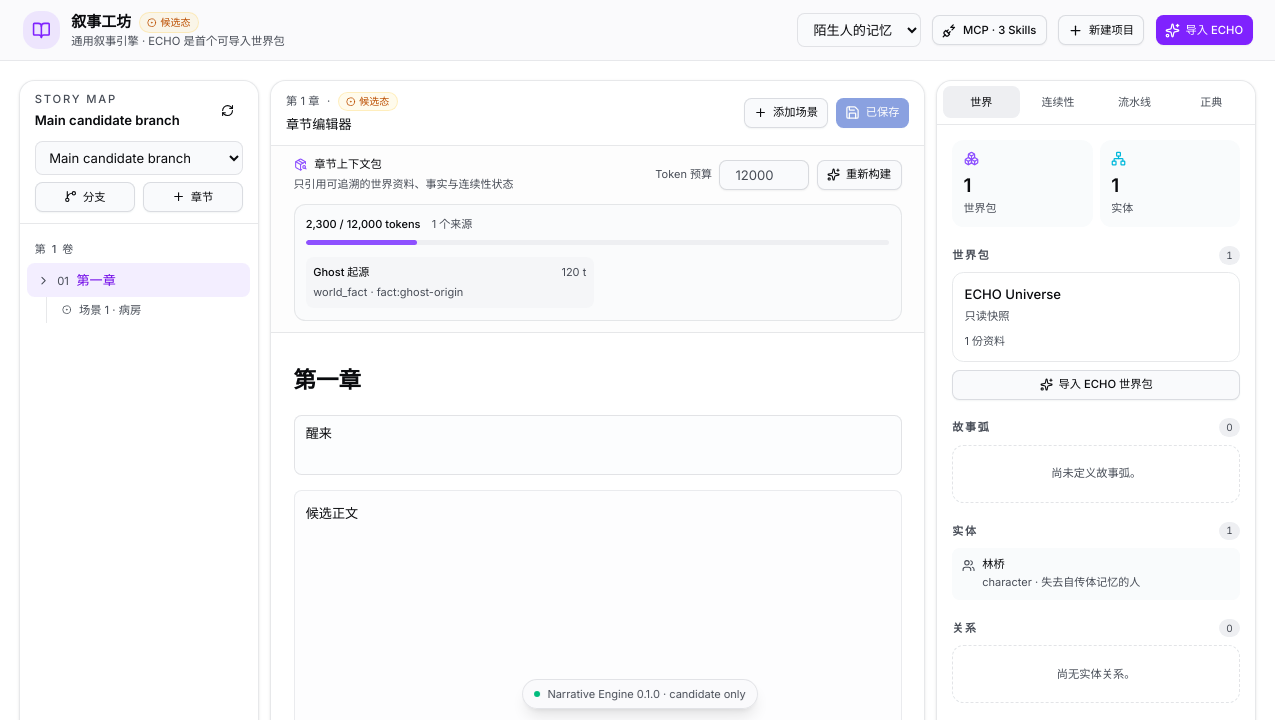
it: NarrativePage › cancels an in-flight AI stage without creating a candidate or submission
The image size is (1280, 720).
Expected: the field showing "第一章" is shown, [294,356,902,404]
What coordinates should you click on to do the following:
click the button "流水线"
I would click on:
 (1135, 102)
Its box is [1096,86,1173,118].
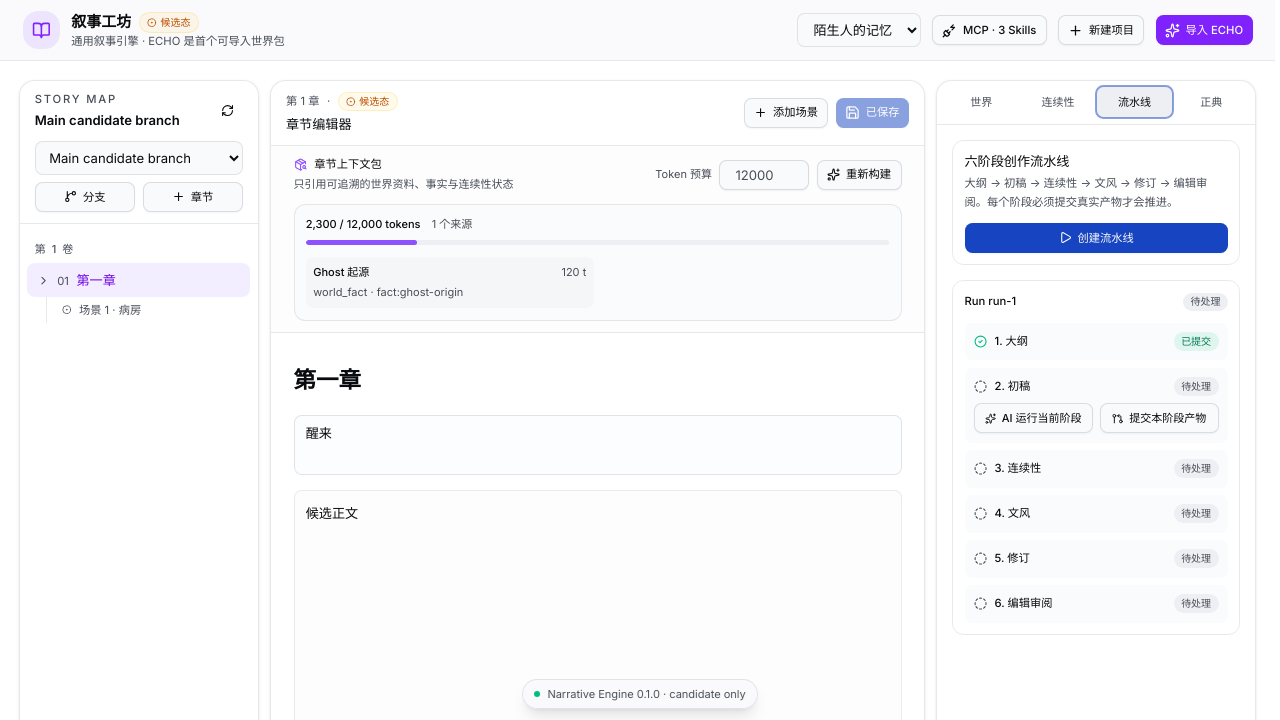
What coordinates should you click on to do the following:
click the button "AI 运行当前阶段"
I would click on:
 (1033, 418)
Its box is [974,403,1092,433].
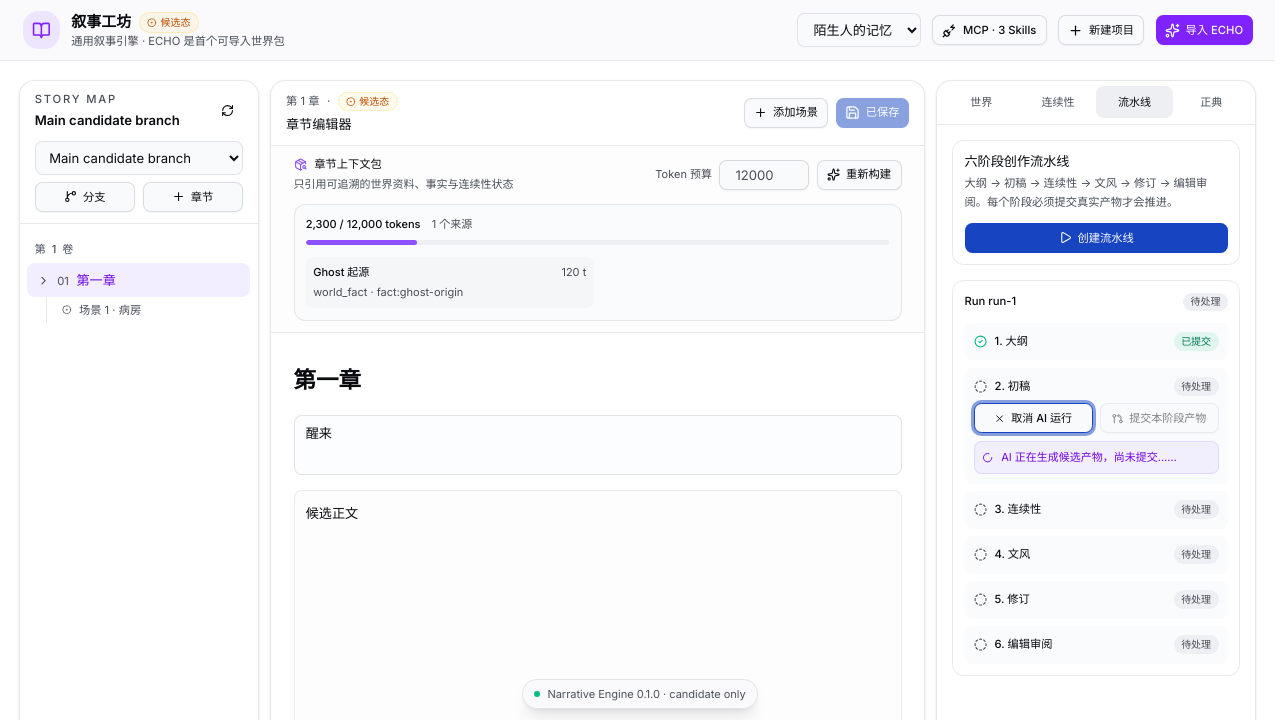
What coordinates should you click on to do the following:
click the button "取消 AI 运行"
I would click on:
 (1033, 418)
Its box is [974,403,1092,433].
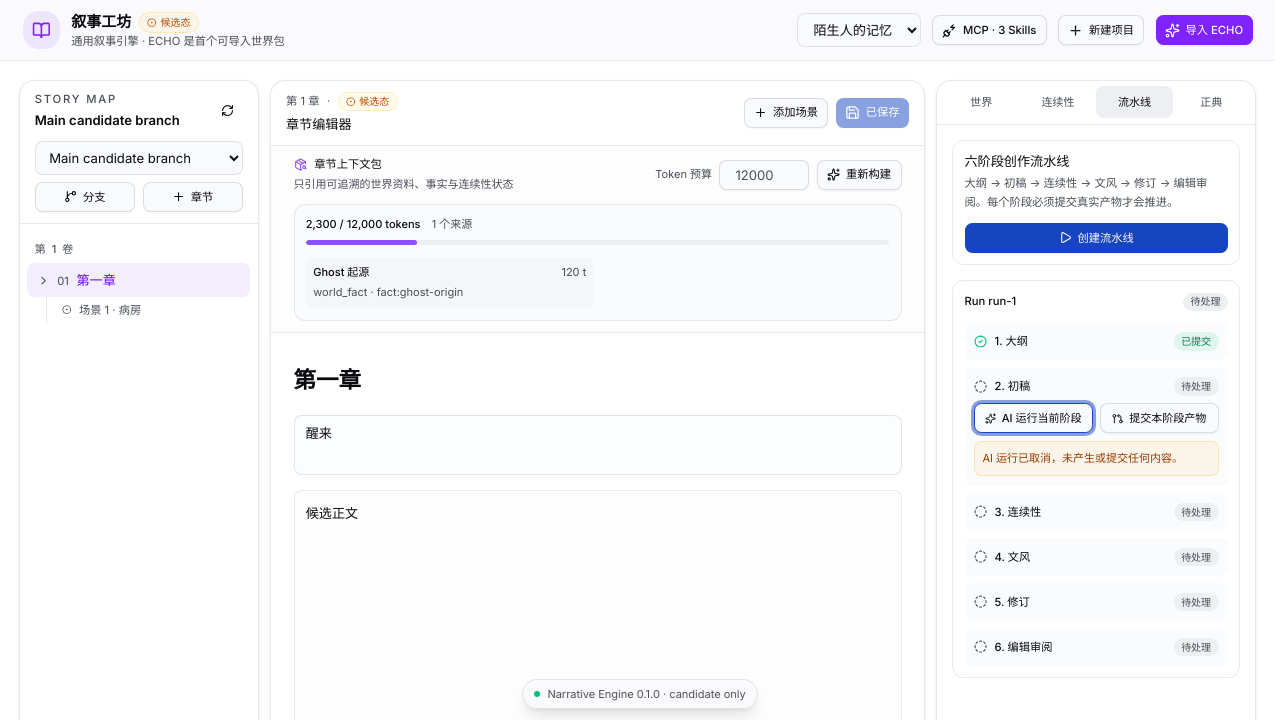
Expected: the text "AI 运行已取消，未产生或提交任何内容。" is shown, [974,441,1219,476]
